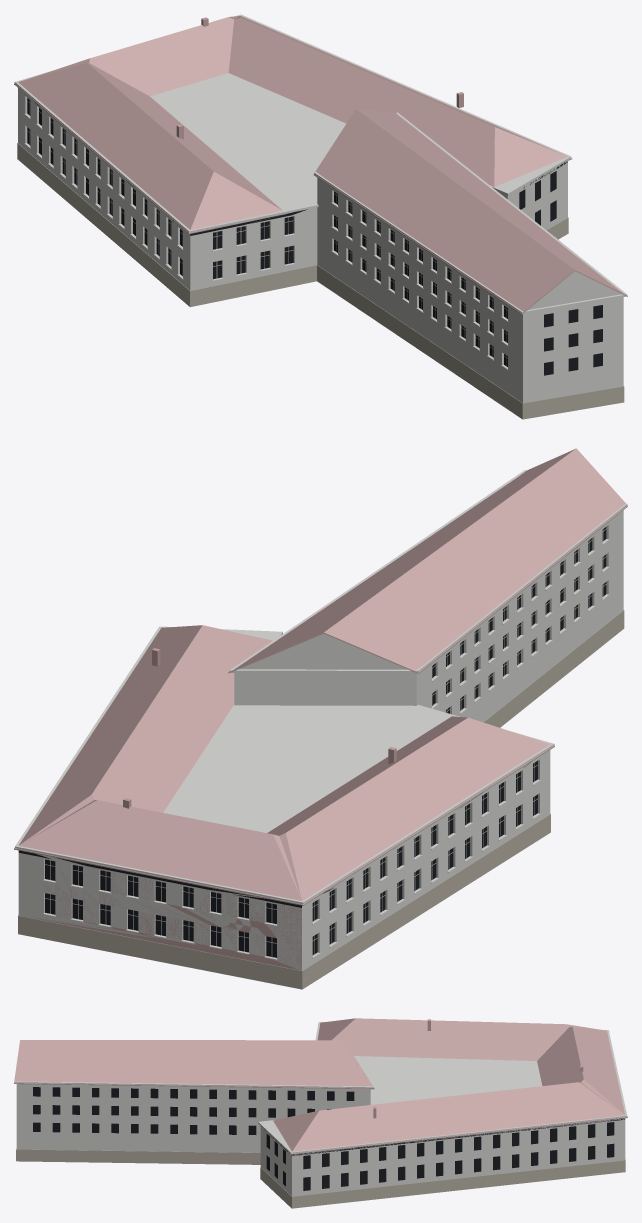
Rendered from SM_Pozemskogo_24.glb.
The picture shows the model from 3 angles, top to bottom: view 1: azimuth 30°, elevation 25°; view 2: azimuth 150°, elevation 25°; view 3: azimuth 270°, elevation 25°; orthographic projection. The views are drawn at different scales.
Parts seen in each view (by area): view 1: SM_Pozemskogo_24; view 2: SM_Pozemskogo_24; view 3: SM_Pozemskogo_24.
Part boxes in pixels (x1,y1,x2,y2): SM_Pozemskogo_24: [14, 14, 627, 419]; SM_Pozemskogo_24: [14, 448, 627, 989]; SM_Pozemskogo_24: [14, 1018, 627, 1208].
Size of the model in its own units: 56.96 by 21.2 by 113.
